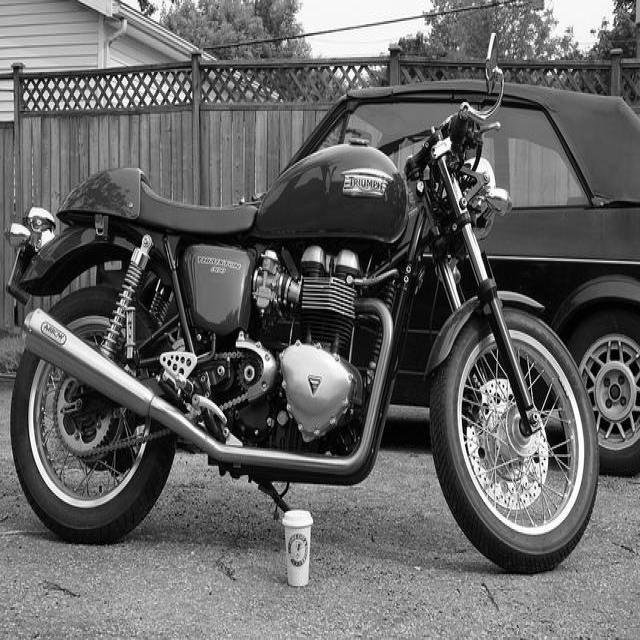vehicle: (6, 24, 598, 572), (272, 81, 640, 473)
